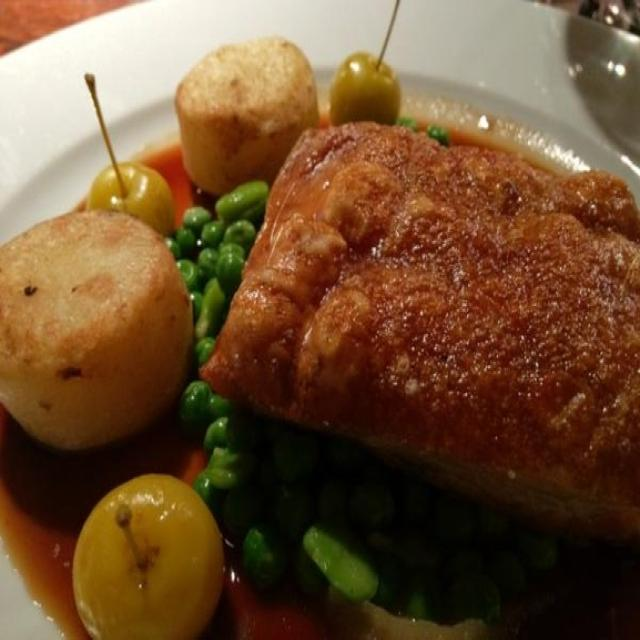牛肉菜式: (1, 13, 636, 628)
